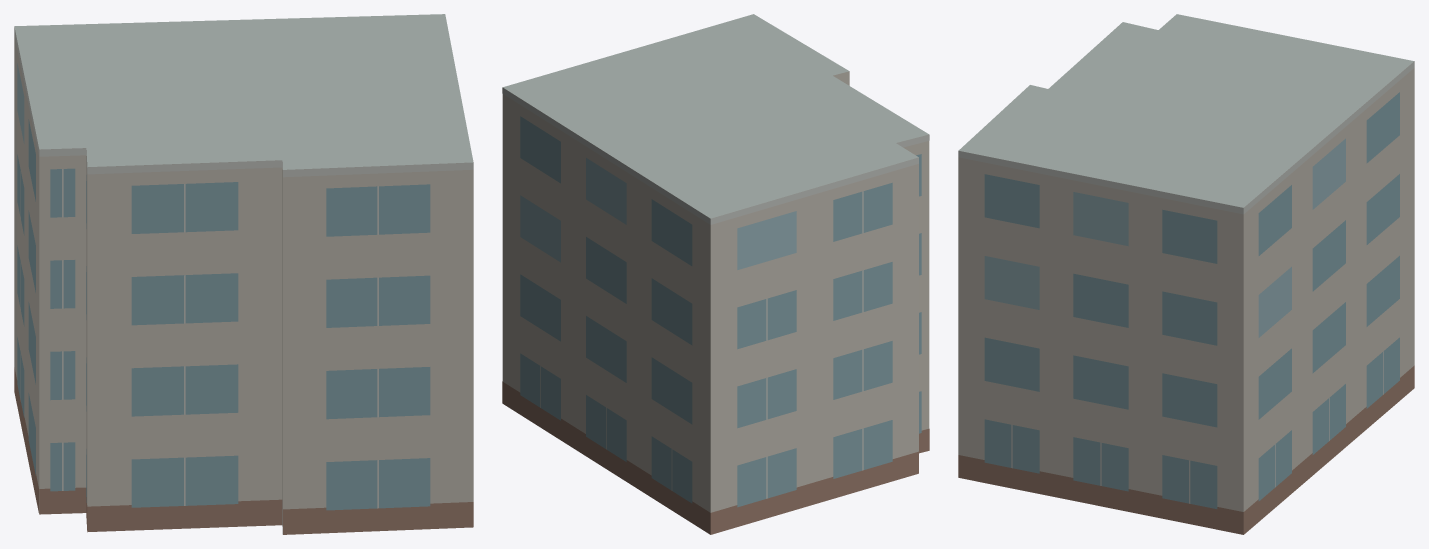
File: survey-upis-32687228.glb
The picture shows the model from 3 angles, left to right: view 1: azimuth 30°, elevation 25°; view 2: azimuth 150°, elevation 25°; view 3: azimuth 270°, elevation 25°; orthographic projection. The views are drawn at different scales.
Parts seen in each view (by area): view 1: survey-upis-32687228.tmp; view 2: survey-upis-32687228.tmp; view 3: survey-upis-32687228.tmp.
Boxes of the visible parts, x1=… form: survey-upis-32687228.tmp: x1=14, y1=14, x2=473, y2=534; survey-upis-32687228.tmp: x1=502, y1=14, x2=929, y2=534; survey-upis-32687228.tmp: x1=958, y1=14, x2=1414, y2=534.
Size of the model in its own units: 15.52 by 12.2 by 15.43.
